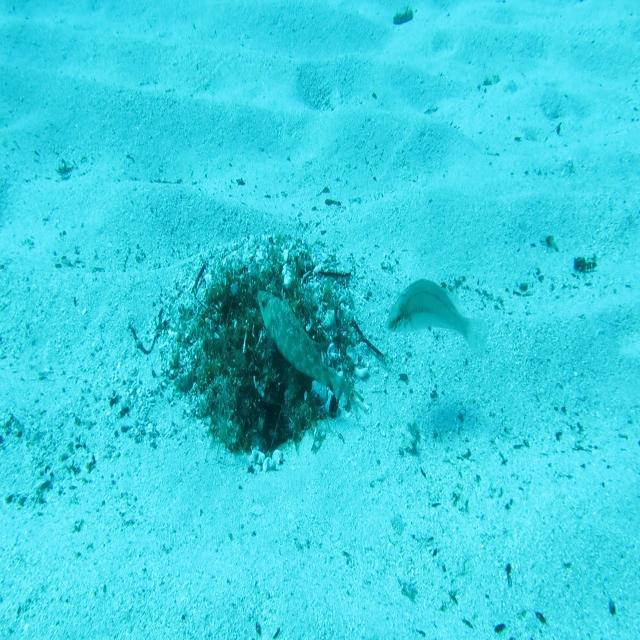FAN: (255, 288, 353, 412)
core_nest: (234, 285, 286, 318)
female: (384, 277, 490, 362)
nest: (152, 225, 370, 478)
vegetation: (392, 8, 416, 28)
